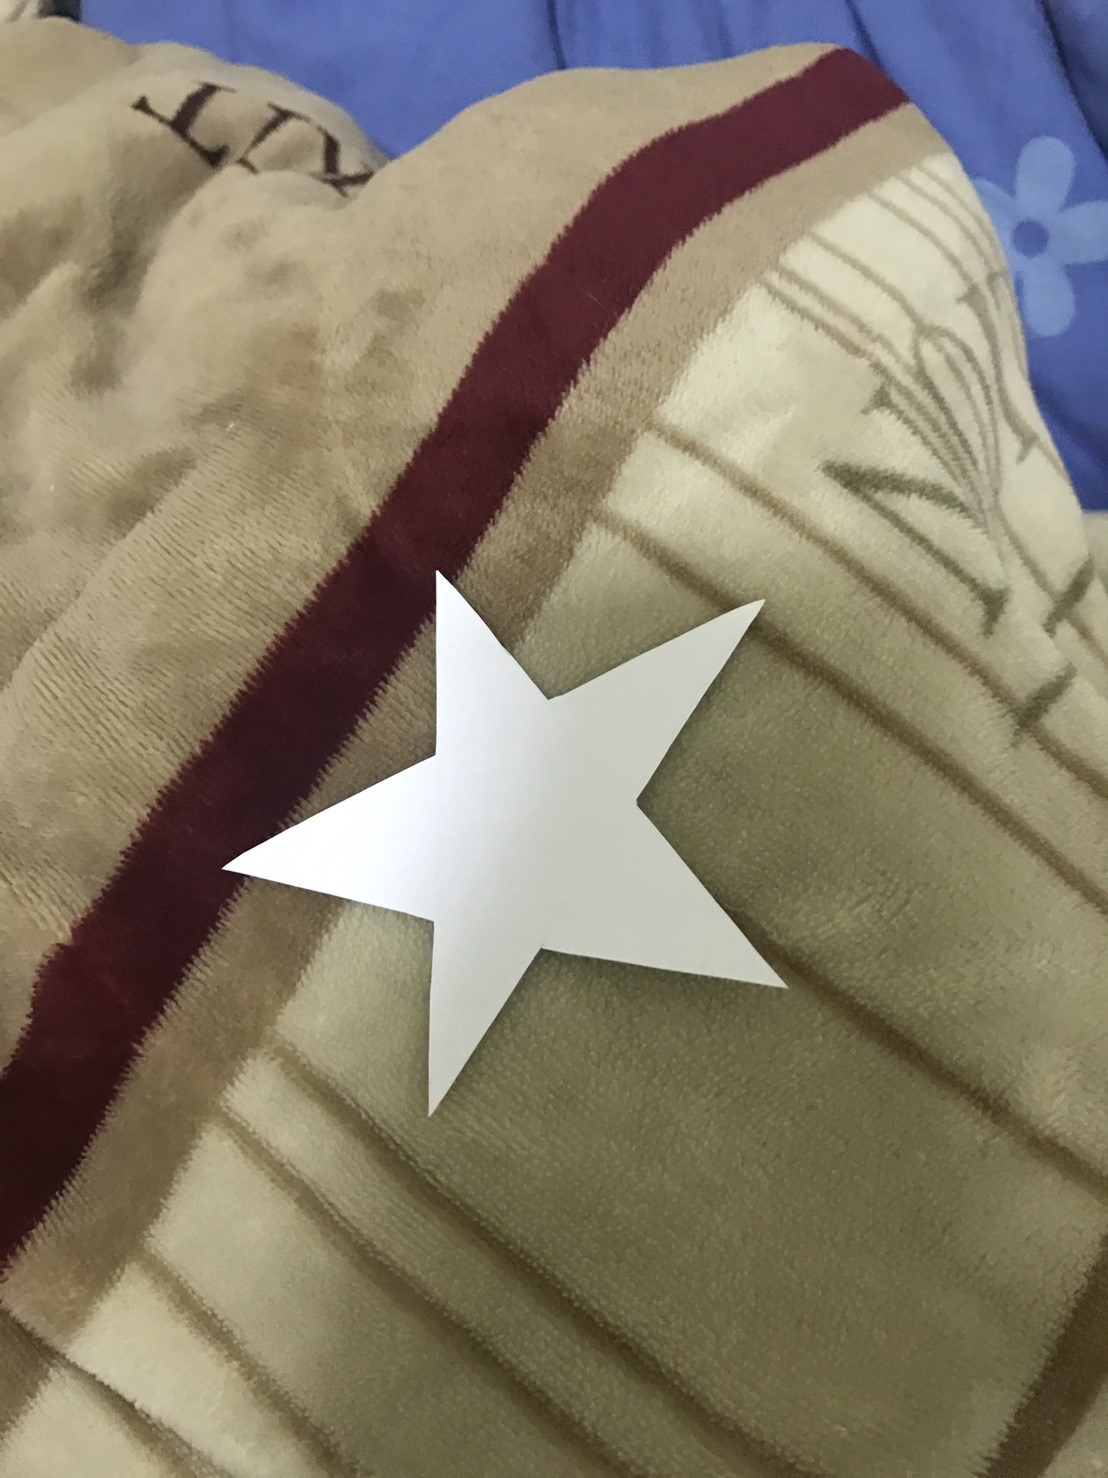star: (206, 538, 810, 1124)
